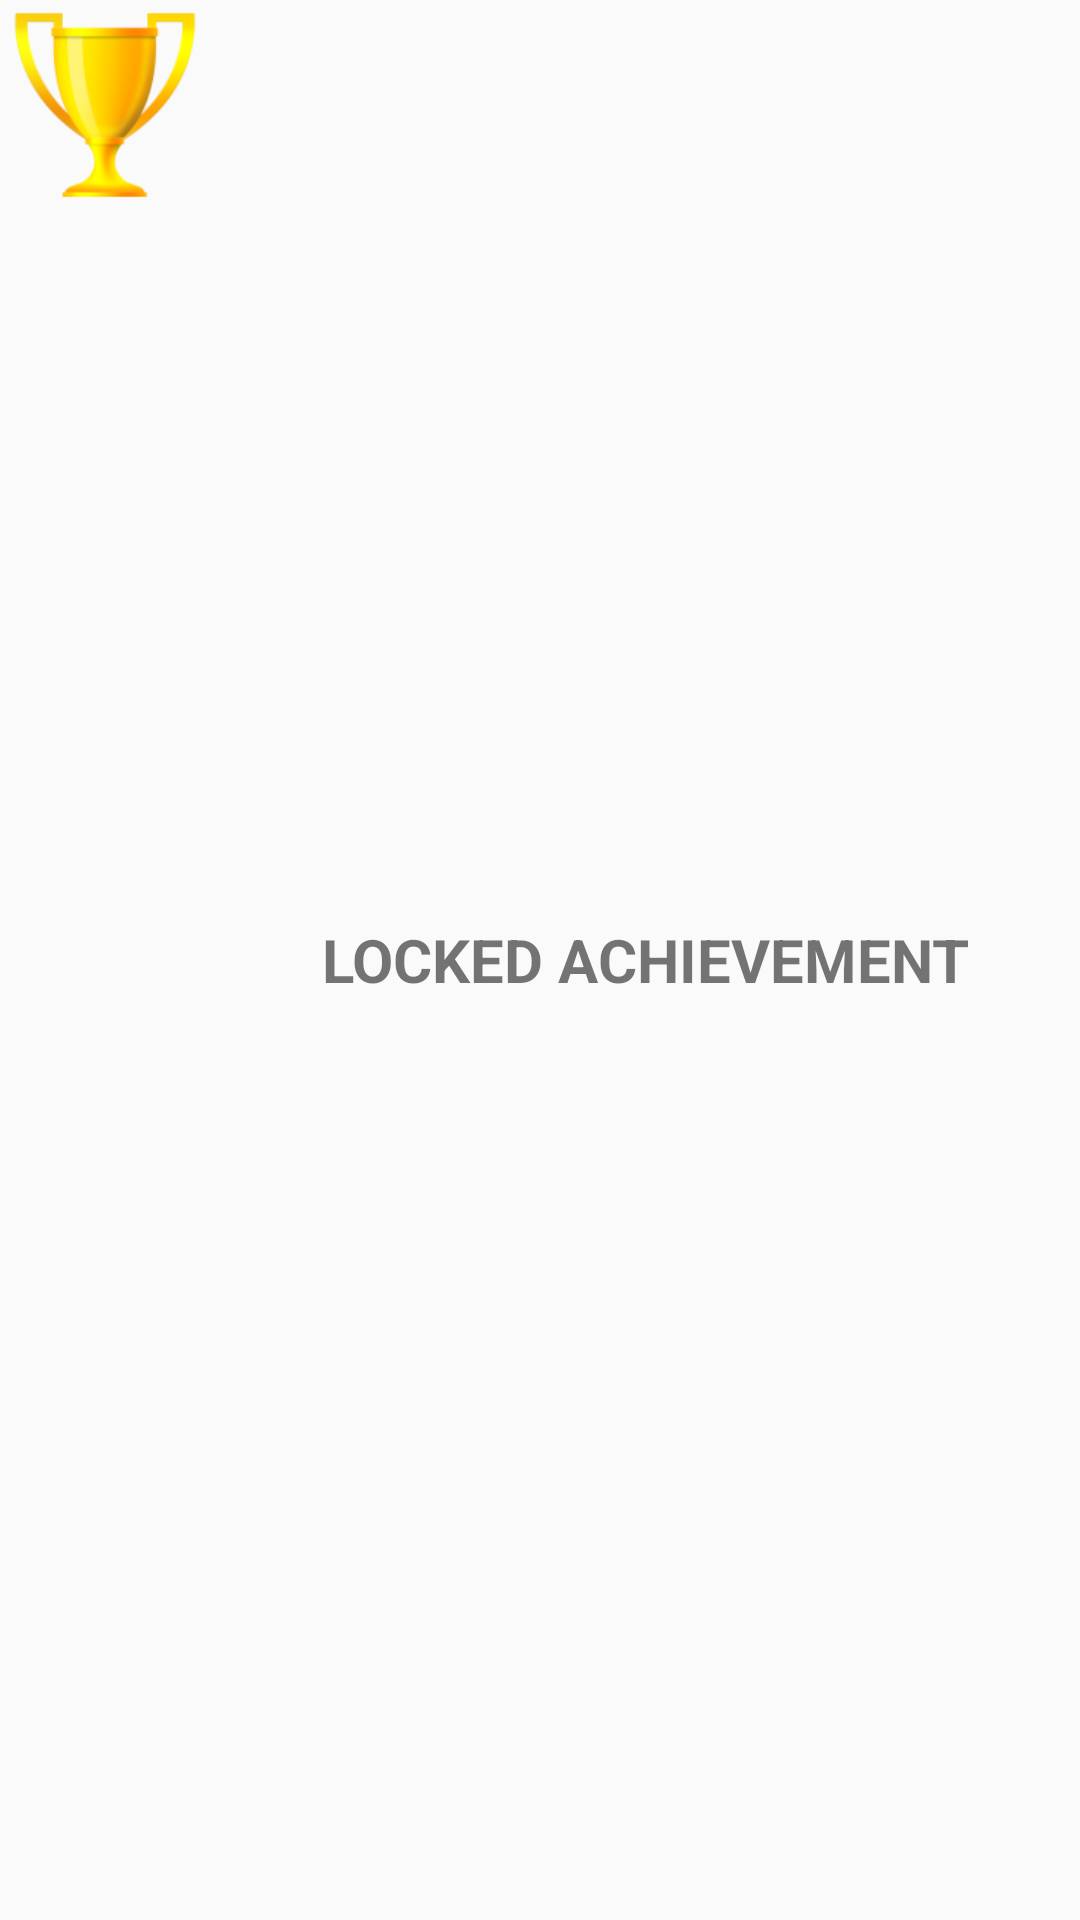

Named icons in this screenshot (1080 × 1920) and their bounding boxes, detection(x1, y1, x2, y2):
trophy: detection(14, 13, 196, 197)
